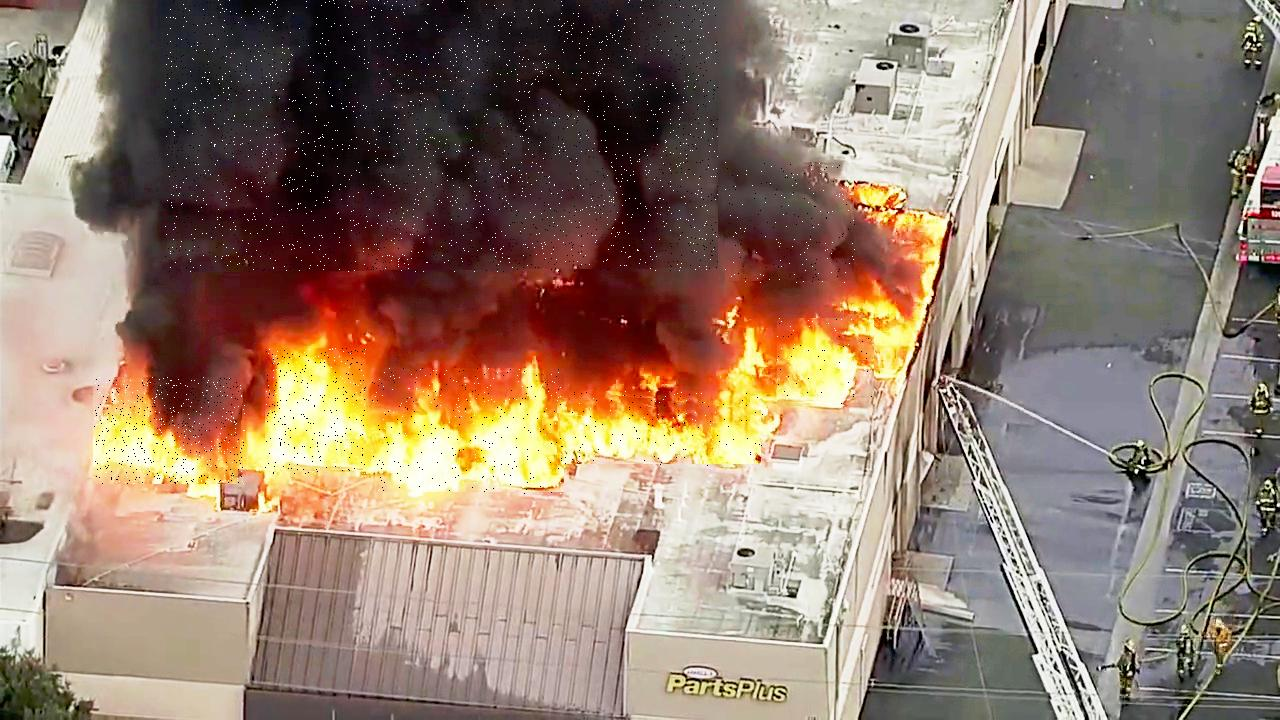fire: (371, 369, 564, 495), (94, 377, 246, 484), (558, 392, 764, 467), (265, 349, 366, 475), (778, 319, 877, 406)
smoke: (165, 0, 718, 272), (726, 163, 857, 284)
